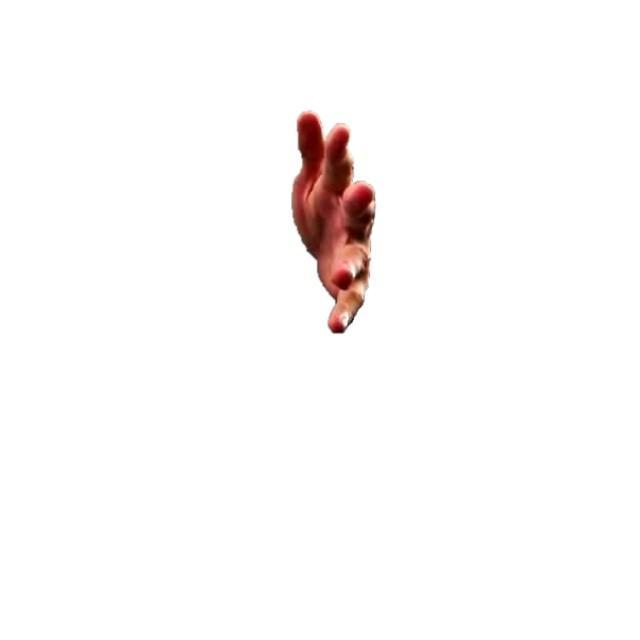pa-: (289, 112, 377, 337)
